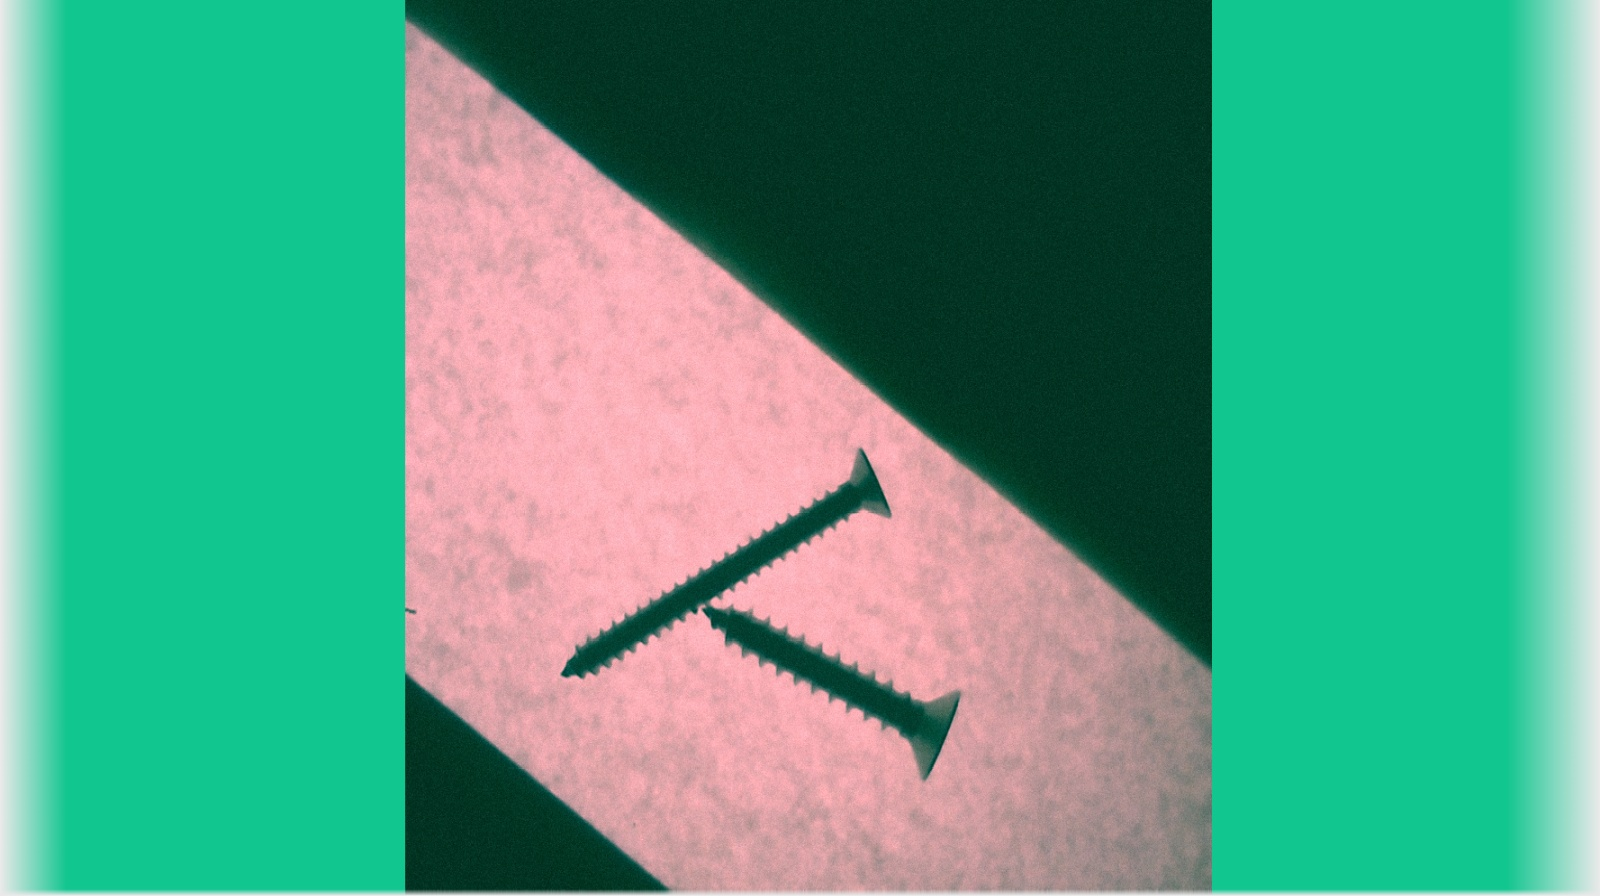S001: (699, 604, 966, 778)
S002: (551, 444, 900, 688)
